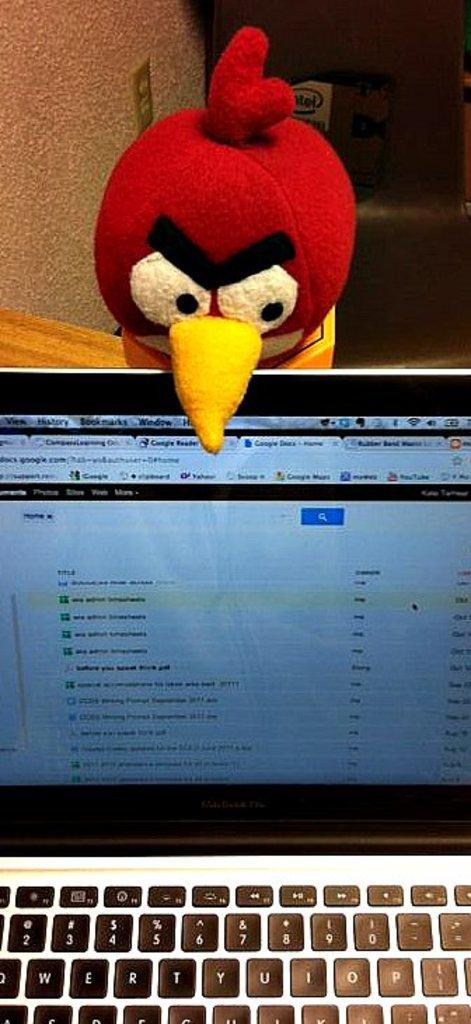Computer-keyboard: (0, 884, 470, 1023)
Laptop: (0, 237, 461, 1024)
